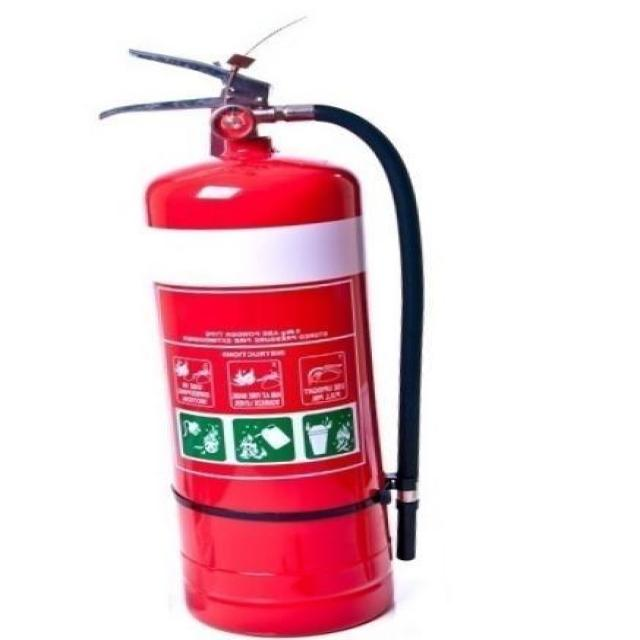fire_extinguisher: (88, 40, 436, 639)
